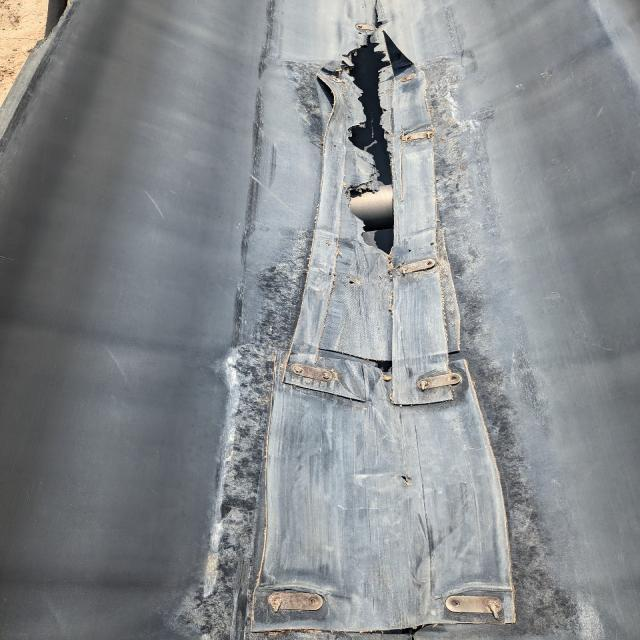Hole: (312, 0, 420, 257)
